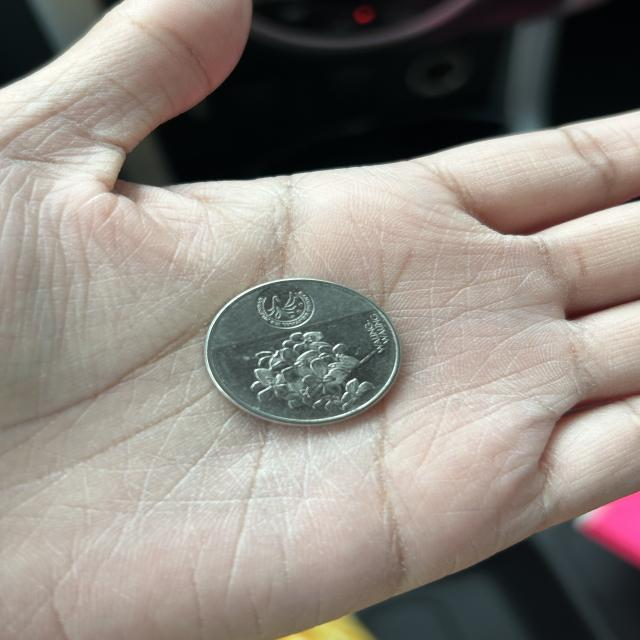1_New_Back: (247, 332, 384, 415)
